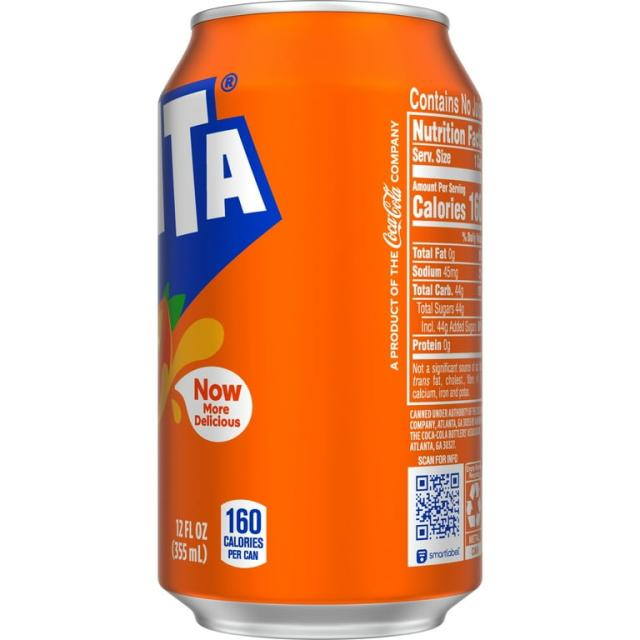fanta: (146, 12, 494, 640)
